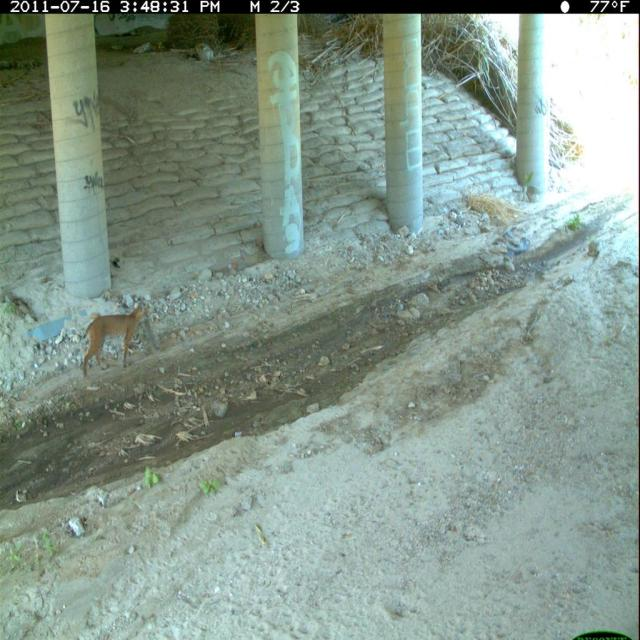bobcat: (78, 298, 154, 383)
rabbit: (142, 317, 163, 356)
